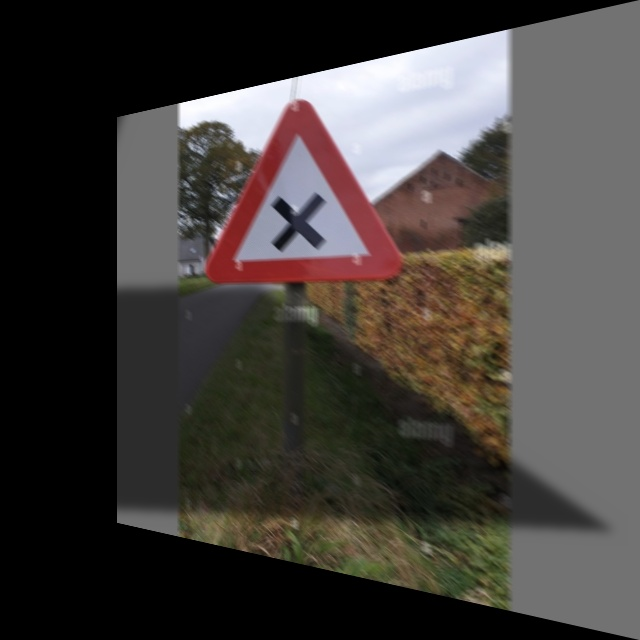Cross_Road: (212, 74, 393, 285)
